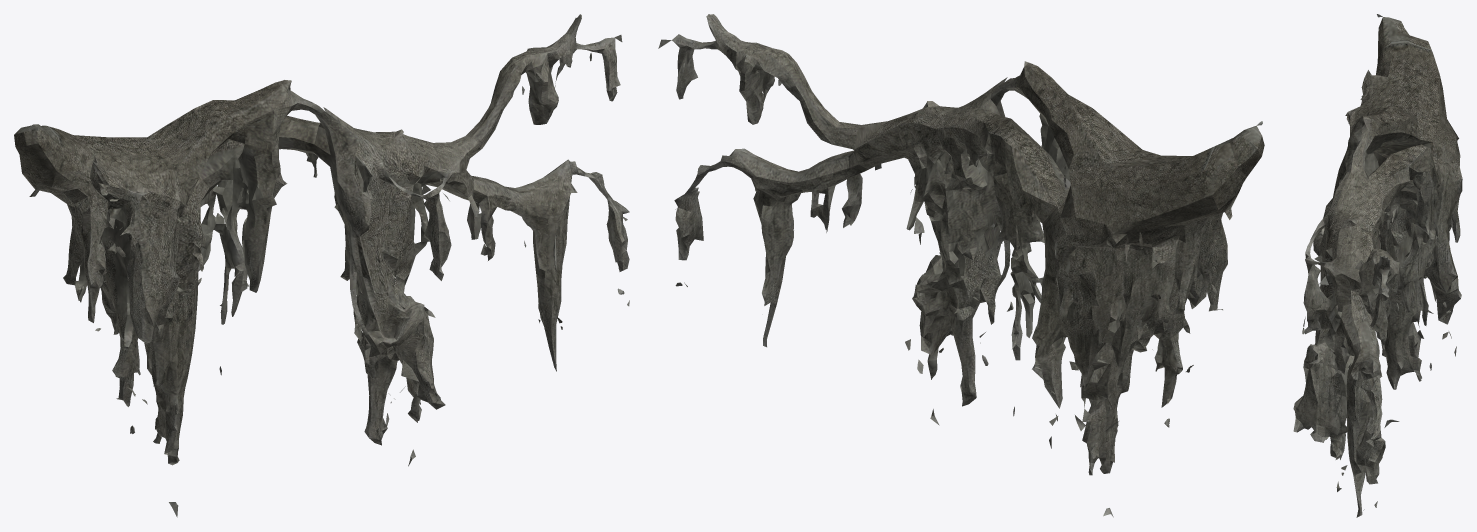
3 renders of one model, left to right at view 1: azimuth 30°, elevation 25°; view 2: azimuth 150°, elevation 25°; view 3: azimuth 270°, elevation 25°, orthographic. The views are drawn at different scales.
Size of the model in its own units: 1.75 by 1.18 by 0.5094.
1 material, 1 textured.
